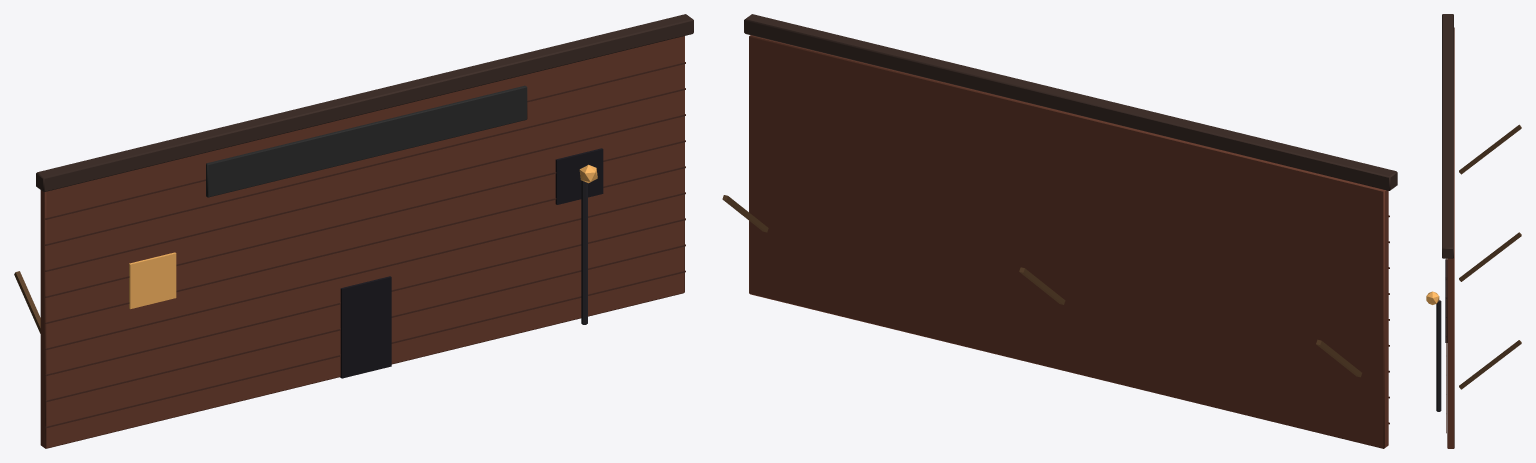
The model's file is set_front_alley.glb.
3 renders of one model, left to right at view 1: azimuth 30°, elevation 25°; view 2: azimuth 150°, elevation 25°; view 3: azimuth 270°, elevation 25°, orthographic. The views are drawn at different scales.
Parts seen in each view (by area): view 1: set_front_alley; view 2: set_front_alley; view 3: set_front_alley.
Part boxes in pixels (x1,y1,x2,y2): set_front_alley: (14, 14, 693, 448); set_front_alley: (722, 14, 1397, 448); set_front_alley: (1426, 14, 1521, 448).
Size of the model in its own units: 18.3 by 7.4 by 3.15.
